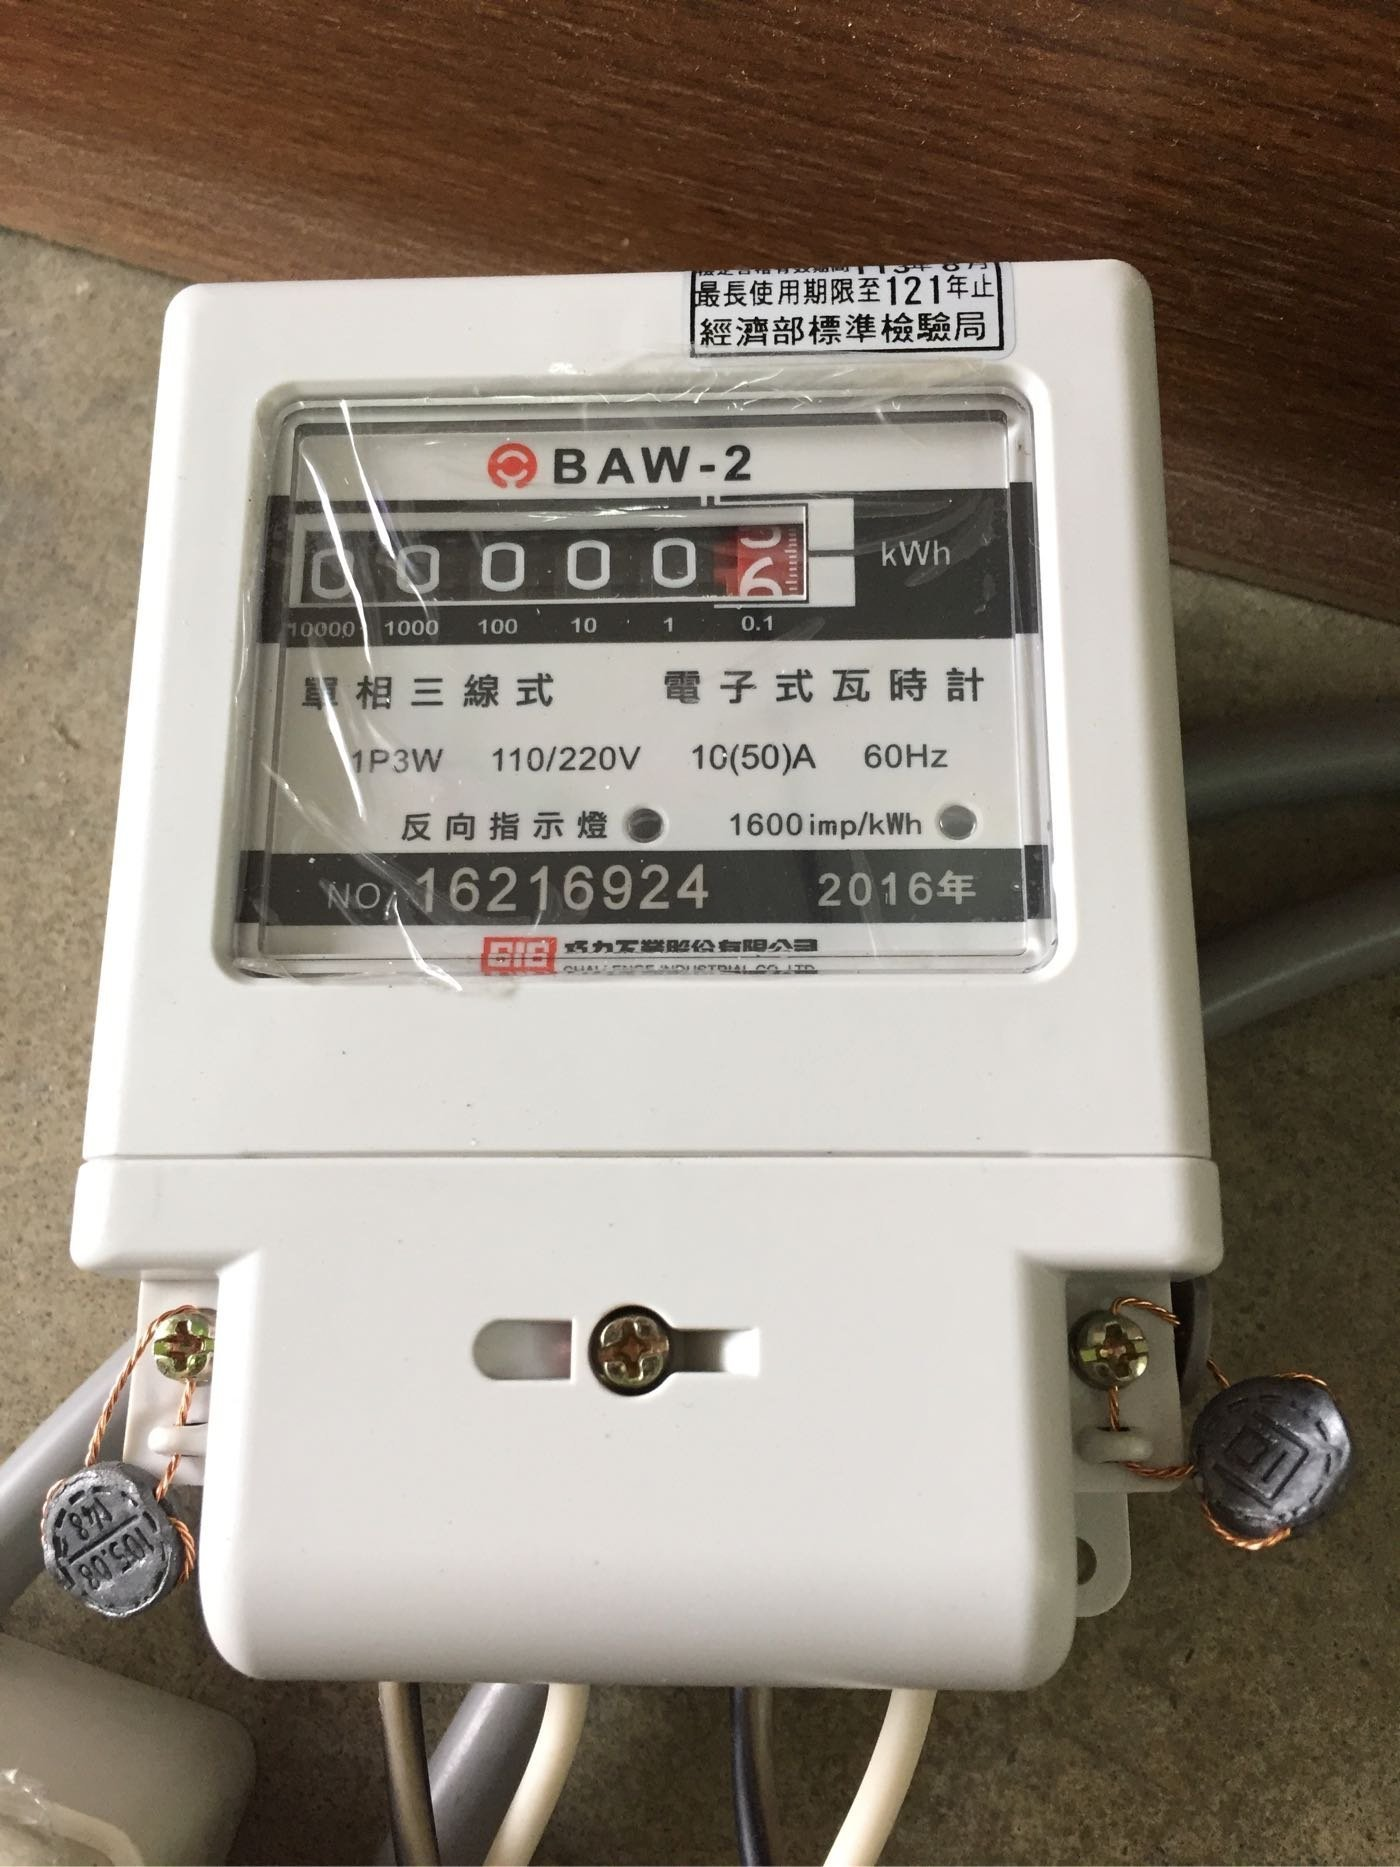show: (274, 498, 829, 626)
